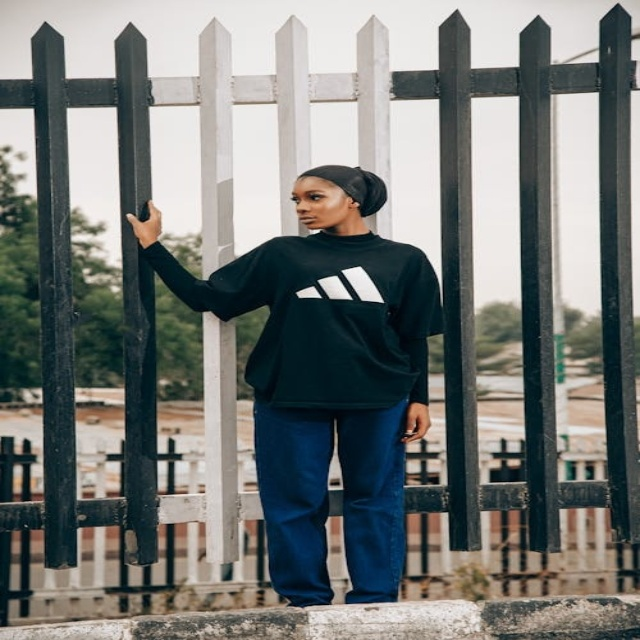Sin_gafas: (287, 188, 339, 207)
Sin_guantes: (123, 198, 165, 246), (402, 402, 431, 443)
Sin_mascara: (297, 211, 325, 229)
